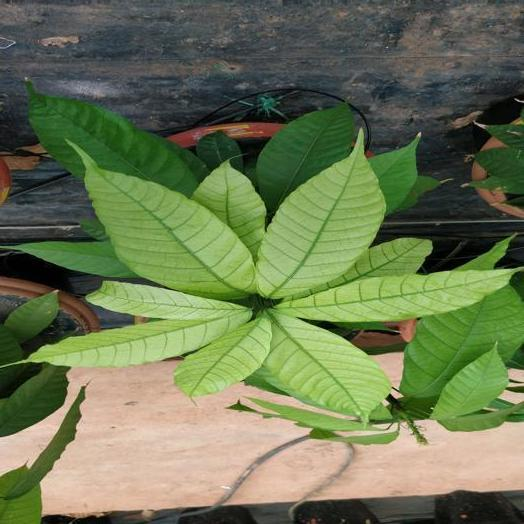Healthy Leaf: (28, 84, 201, 196), (401, 285, 523, 395), (257, 104, 353, 213), (431, 346, 508, 420), (0, 241, 136, 276), (0, 367, 67, 436), (5, 292, 57, 341)
Iron: (73, 144, 254, 298), (258, 133, 384, 298), (264, 313, 390, 421), (29, 313, 249, 367), (276, 270, 517, 319), (175, 317, 271, 396), (193, 161, 265, 260), (86, 281, 250, 319), (315, 238, 431, 291)
